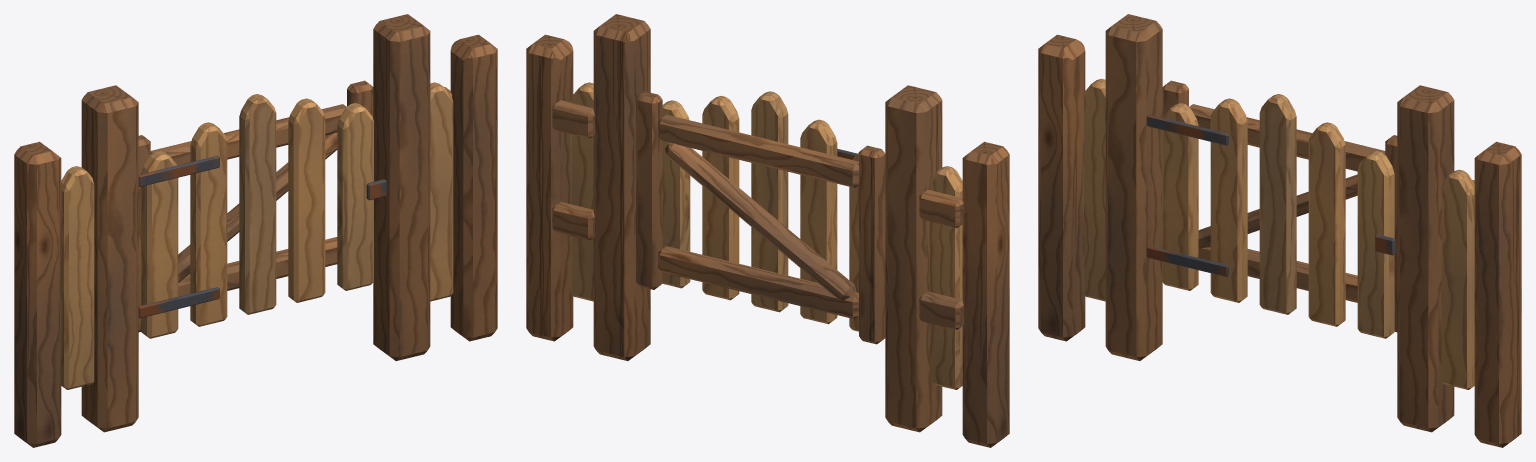
The model's file is bahce_kapisi.glb.
3 views of the same model, side by side, from view 1: azimuth 30°, elevation 25°; view 2: azimuth 150°, elevation 25°; view 3: azimuth 330°, elevation 25° (orthographic).
Visible parts, largest first — view 1: bahce_kapisi, Kanat; view 2: bahce_kapisi, Kanat; view 3: bahce_kapisi, Kanat.
Part boxes in pixels (x1,y1,x2,y2): bahce_kapisi: [14, 14, 497, 447]; Kanat: [138, 80, 386, 338]; bahce_kapisi: [526, 14, 1009, 447]; Kanat: [636, 91, 885, 344]; bahce_kapisi: [1038, 14, 1521, 447]; Kanat: [1146, 80, 1397, 338].
Bounding box in the file's own units: 3 × 2 × 0.28.
1 material, 1 textured.
